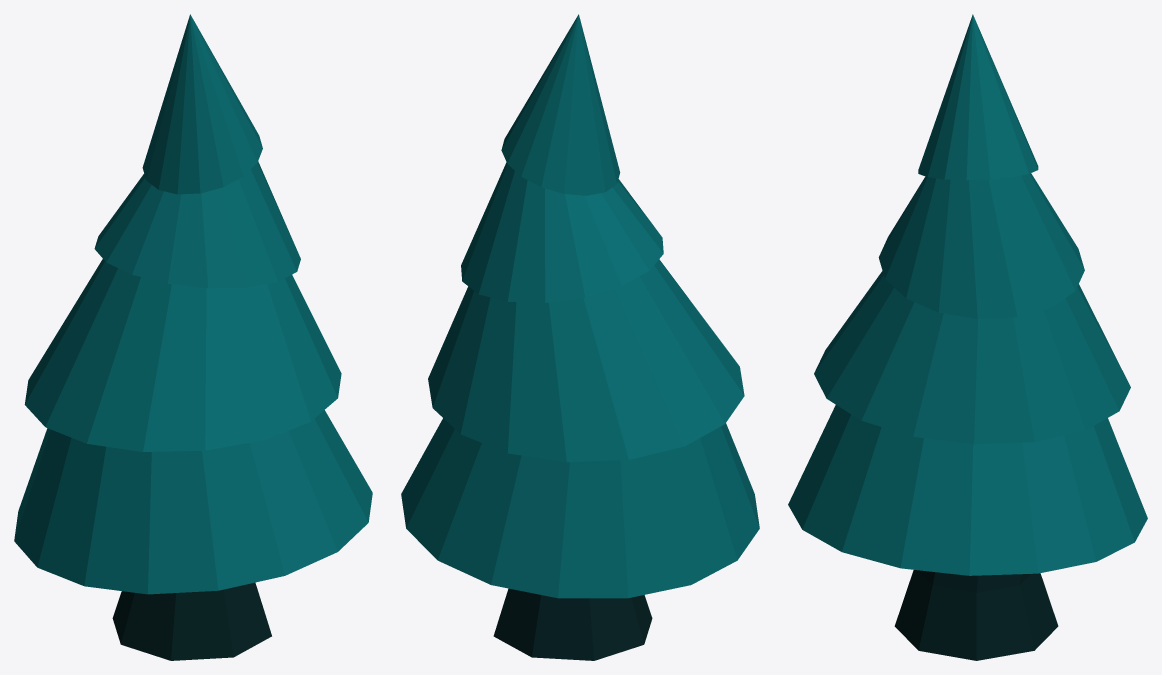
Rendered from CyanTree2.fbx.
3 renders of one model, left to right at view 1: azimuth 30°, elevation 25°; view 2: azimuth 150°, elevation 25°; view 3: azimuth 270°, elevation 25°, orthographic.
Parts seen in each view (by area): view 1: Cylinder; view 2: Cylinder; view 3: Cylinder.
Boxes of the visible parts, x1,y1,x2,y2 form: Cylinder: (14,14,372,660); Cylinder: (401,14,759,660); Cylinder: (788,14,1147,660).
Size of the model in its own units: 821 by 1539 by 823.
